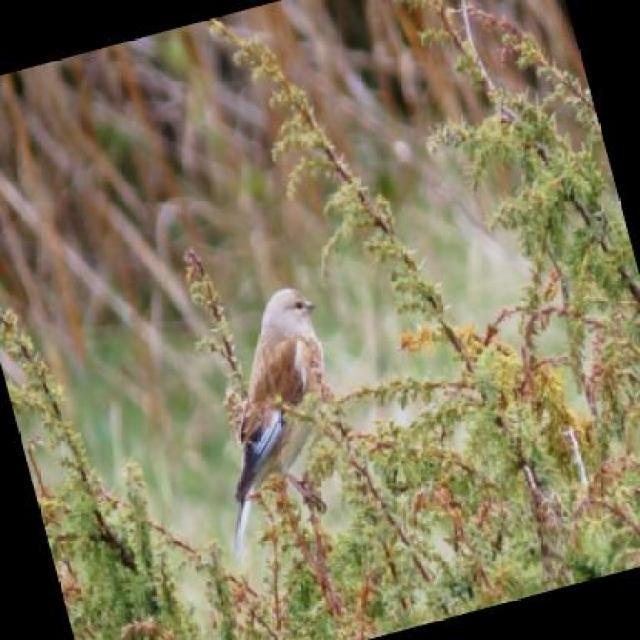Bird: (214, 279, 325, 523)
